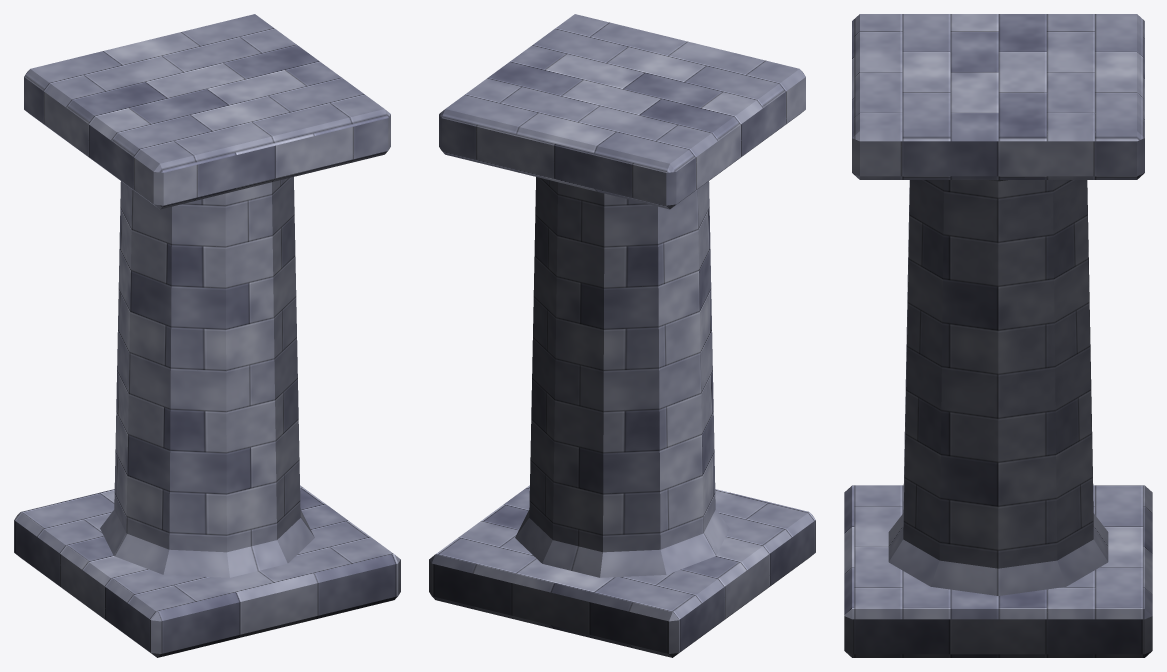
Rendered from pillar.glb.
3 renders of one model, left to right at view 1: azimuth 30°, elevation 25°; view 2: azimuth 150°, elevation 25°; view 3: azimuth 270°, elevation 25°, orthographic. The views are drawn at different scales.
Parts seen in each view (by area): view 1: pillar; view 2: pillar; view 3: pillar.
Part boxes in pixels (x1,y1,x2,y2): pillar: [14, 14, 400, 657]; pillar: [429, 14, 815, 657]; pillar: [844, 14, 1152, 657].
Size of the model in its own units: 0.8 by 1.5 by 0.8.
Materials: 2 (2 with a texture image).
